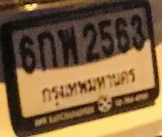num6: (18, 34, 37, 75)
txt01: (36, 31, 59, 72)
txt25: (56, 26, 81, 67)
